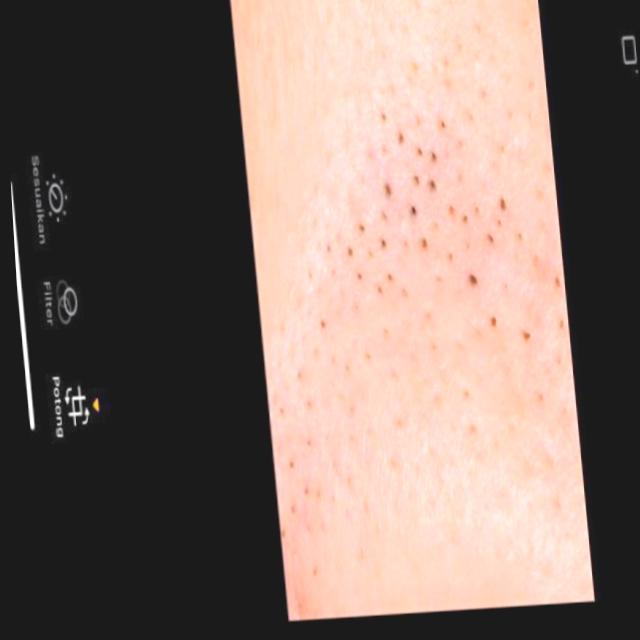blackhead: (282, 80, 549, 425)
